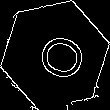O_W: (25, 26, 85, 84)
